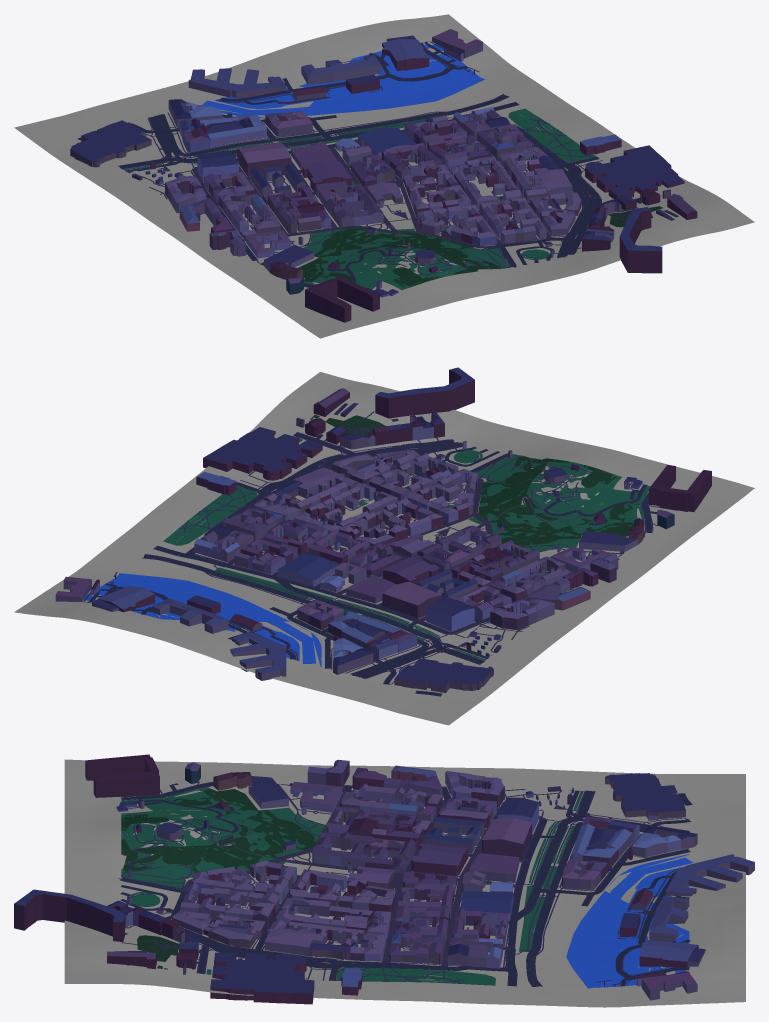
The model's file is haga-mapforge-export.glb.
The picture shows the model from 3 angles, top to bottom: view 1: azimuth 30°, elevation 25°; view 2: azimuth 150°, elevation 25°; view 3: azimuth 270°, elevation 25°; orthographic projection. The views are drawn at different scales.
Bounding box in the file's own units: 305 × 27.56 × 399.
